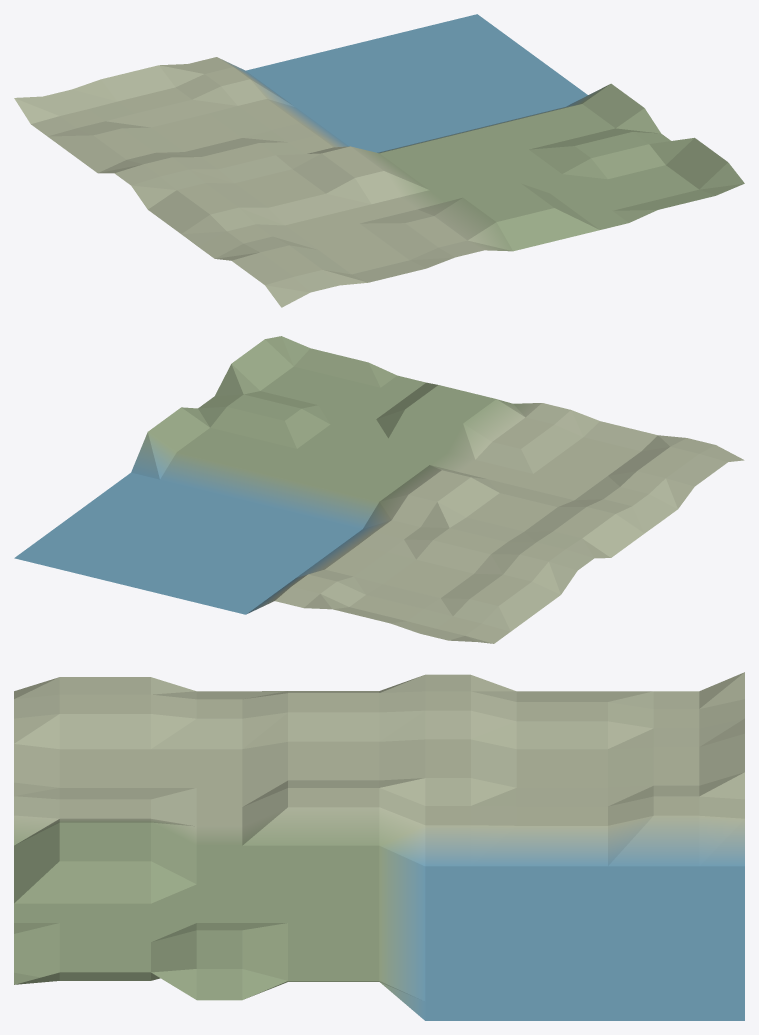
The picture shows the model from 3 angles, top to bottom: view 1: azimuth 30°, elevation 25°; view 2: azimuth 150°, elevation 25°; view 3: azimuth 270°, elevation 25°; orthographic projection. The views are drawn at different scales.
Bounding box in the file's own units: 32 × 2.34 × 32.
